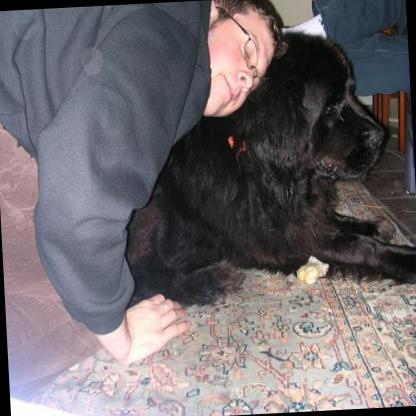Newfoundland: (112, 21, 416, 309)
